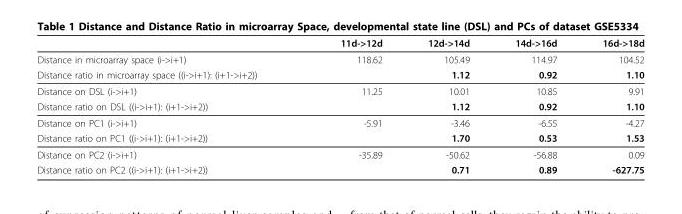table: (36, 36, 643, 175)
table column: (36, 36, 298, 175), (298, 36, 404, 175), (491, 36, 579, 175), (404, 36, 491, 175), (579, 36, 643, 175)
table column header: (36, 36, 643, 50)
table row: (36, 50, 643, 66), (36, 66, 643, 82), (36, 82, 643, 98), (36, 98, 643, 114), (36, 114, 643, 130), (36, 130, 643, 146), (36, 146, 643, 161), (36, 36, 643, 50), (36, 161, 643, 175)
